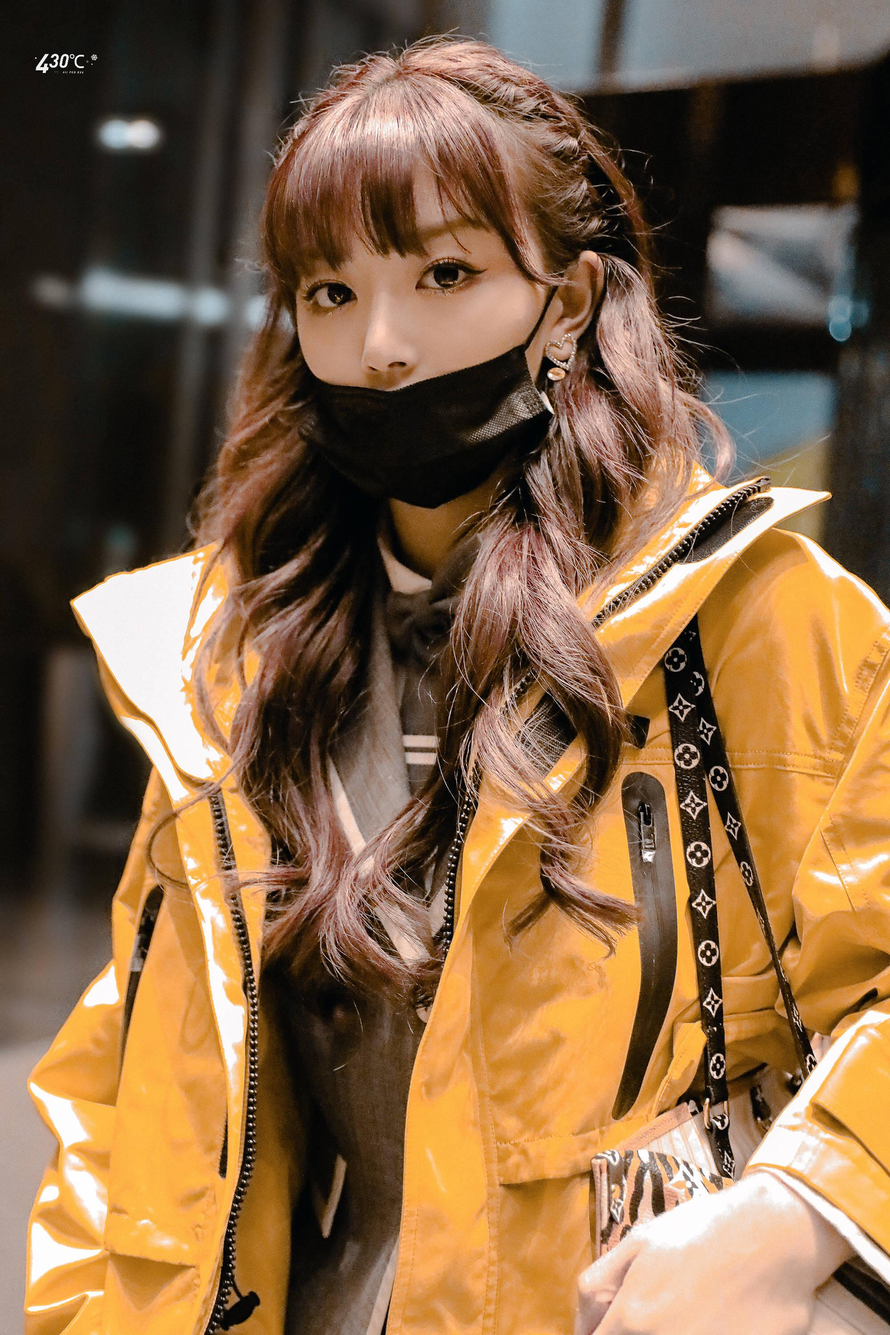WRONG: (292, 181, 533, 507)
